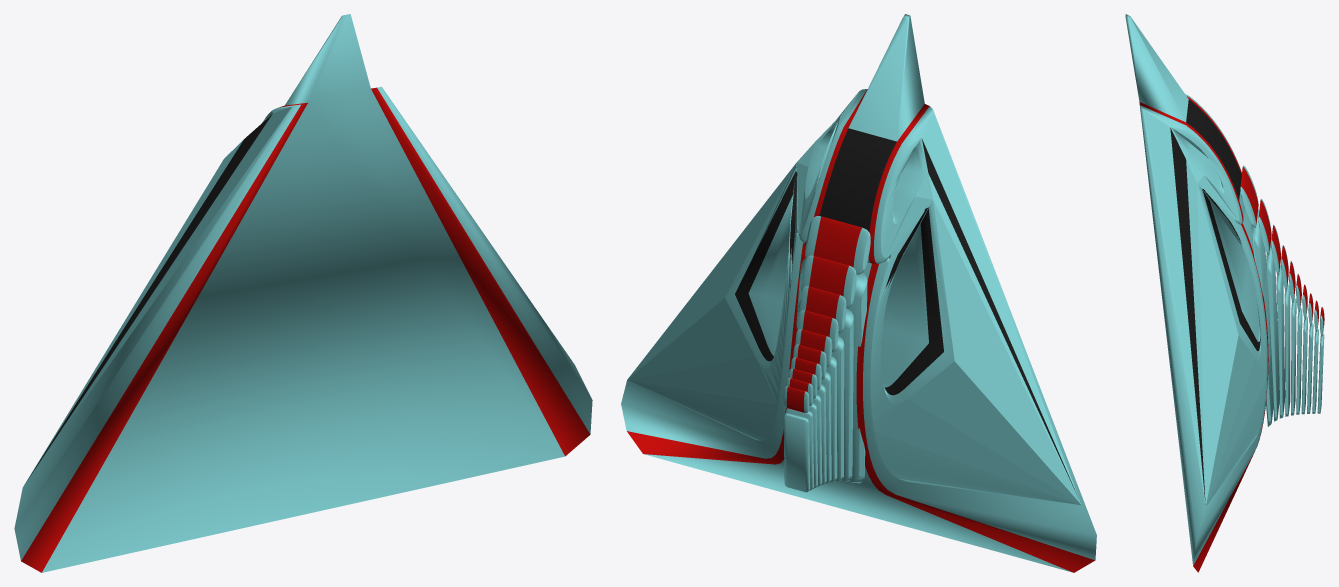
File: space2.glb
The picture shows the model from 3 angles, left to right: view 1: azimuth 30°, elevation 25°; view 2: azimuth 150°, elevation 25°; view 3: azimuth 270°, elevation 25°; orthographic projection. The views are drawn at different scales.
Parts seen in each view (by area): view 1: Text; view 2: Text; view 3: Text.
Boxes of the visible parts, x1,y1,x2,y2 form: Text: [14, 14, 592, 572]; Text: [621, 14, 1096, 572]; Text: [1125, 14, 1324, 572].
Bounding box in the file's own units: 4.54 × 4.16 × 1.66.
